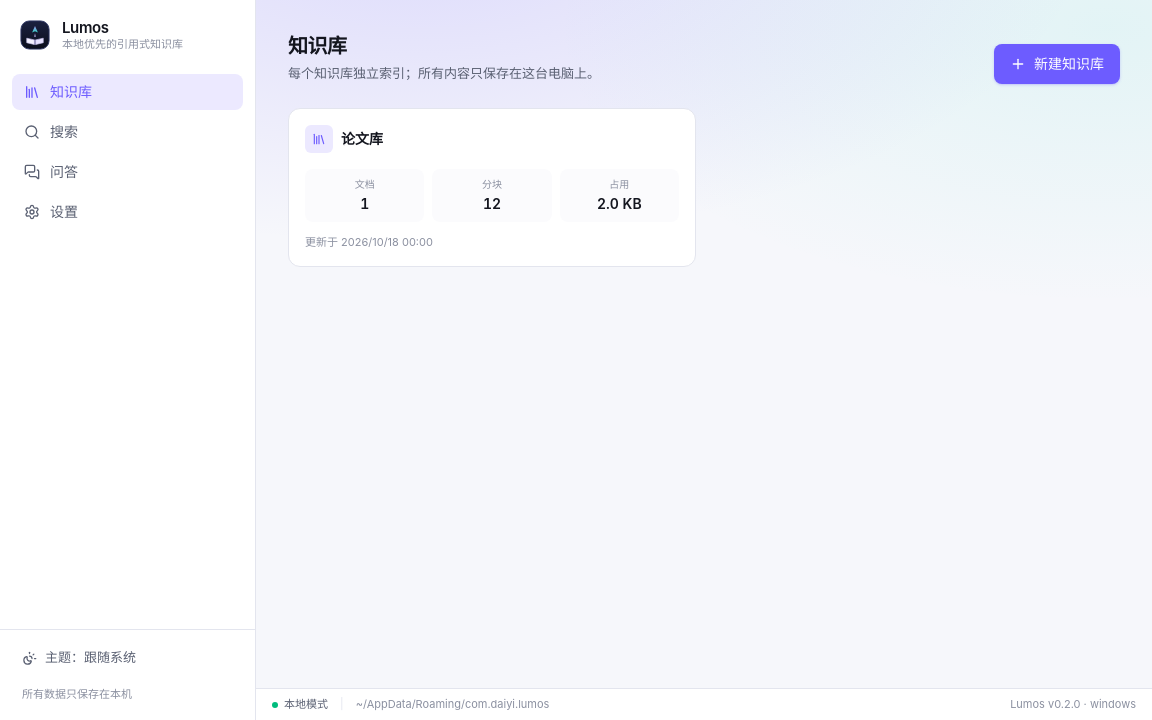
Test: 问答 › 离线模式会显示明确的模式徽标
Click the button "问答" at (128, 172), box left=12, top=154, right=243, bottom=190
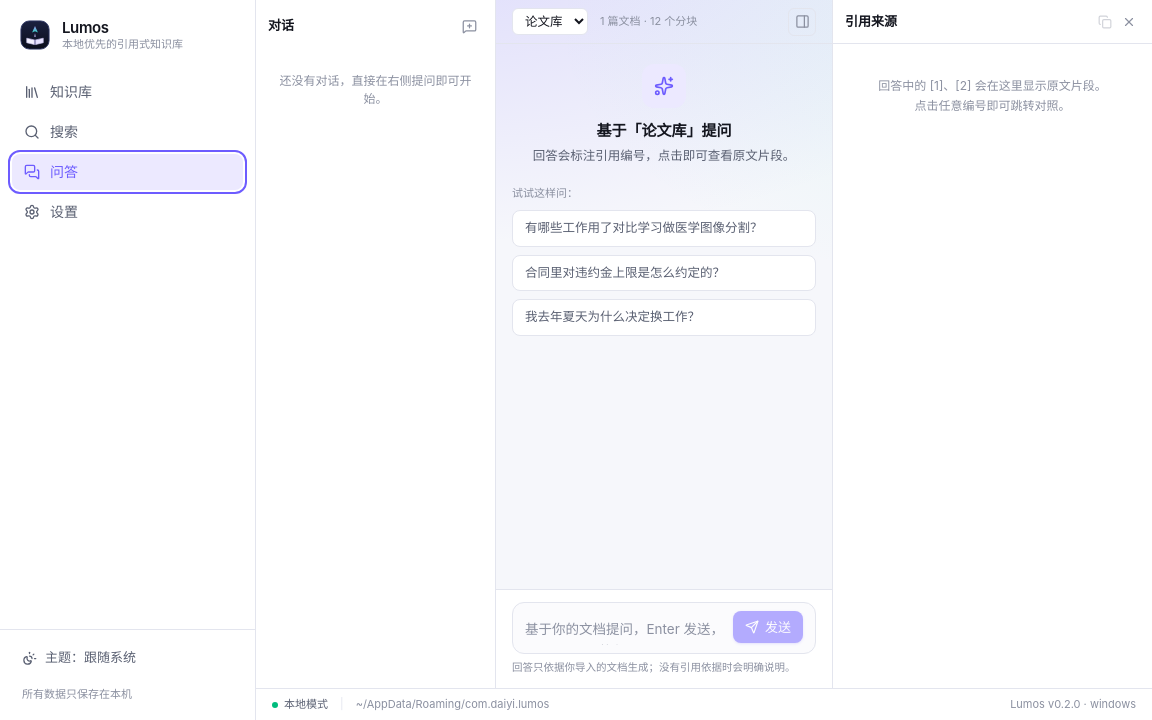
Click the button "有哪些工作用了对比学习做医学图像分割？" at (664, 228), box left=512, top=210, right=816, bottom=247
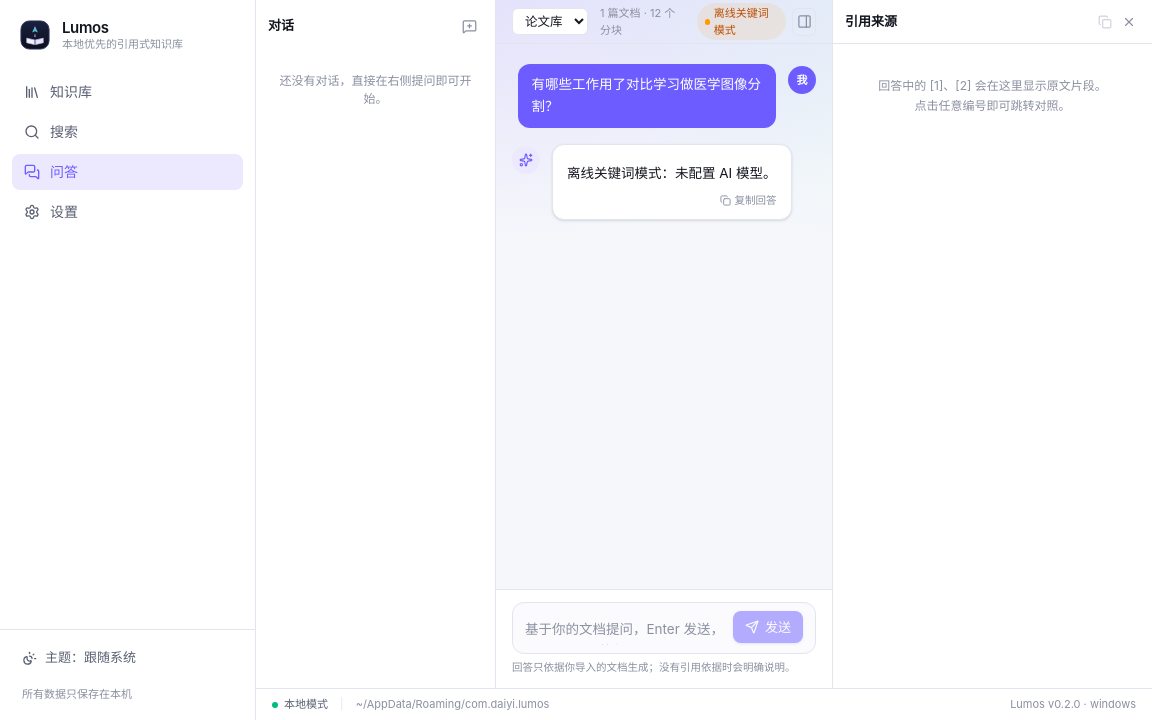
Check: the text "离线关键词模式" is shown, box left=697, top=3, right=786, bottom=40
Check: the text "离线关键词模式：未配置 AI 模型。" is shown, box left=567, top=163, right=776, bottom=185
